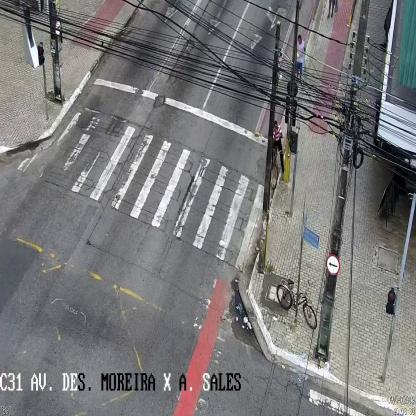bicycle: (276, 277, 318, 330), (270, 119, 285, 188)
person: (295, 34, 306, 83)
